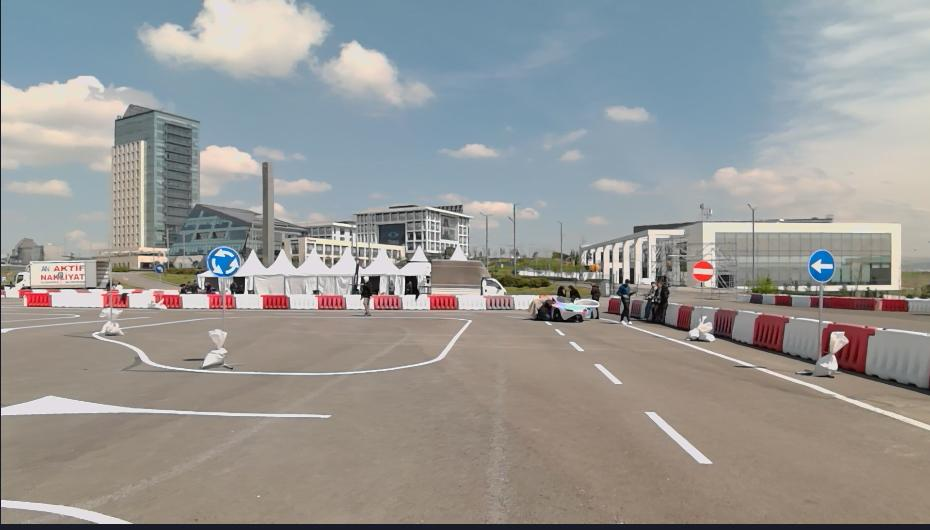nesne: (131, 308, 929, 525), (132, 306, 745, 524), (541, 314, 929, 521), (628, 323, 928, 429), (657, 304, 927, 390), (88, 317, 473, 374), (0, 393, 332, 419), (103, 292, 361, 309), (864, 325, 928, 390), (0, 492, 131, 522), (645, 411, 711, 461), (818, 320, 875, 375), (372, 293, 532, 311), (430, 258, 507, 294), (16, 260, 108, 288), (822, 294, 929, 314), (527, 293, 597, 321), (781, 318, 825, 358), (811, 331, 846, 377), (752, 311, 786, 349), (201, 328, 230, 369), (207, 244, 241, 276), (737, 293, 818, 306), (643, 280, 667, 323), (806, 249, 835, 284), (617, 275, 635, 325), (730, 308, 755, 344), (685, 315, 717, 340), (823, 294, 872, 309), (688, 306, 717, 331), (52, 292, 103, 306), (714, 307, 736, 339), (595, 361, 623, 384), (690, 260, 713, 283), (373, 293, 403, 309), (661, 304, 681, 328), (676, 305, 694, 331), (234, 293, 265, 308), (361, 274, 372, 316), (318, 294, 346, 310), (401, 294, 430, 309), (487, 295, 514, 311), (209, 292, 234, 309), (181, 292, 208, 307), (102, 293, 130, 307), (290, 295, 318, 309), (101, 319, 124, 336), (22, 292, 51, 305), (429, 295, 458, 308), (458, 295, 485, 308), (908, 297, 928, 314), (129, 294, 157, 306), (265, 295, 289, 309), (513, 294, 533, 310), (883, 299, 909, 310), (346, 295, 365, 309), (789, 295, 811, 306), (606, 298, 620, 315), (164, 293, 182, 306), (589, 282, 601, 300), (554, 281, 568, 296), (871, 295, 885, 310), (567, 282, 580, 298), (773, 295, 791, 305), (569, 339, 584, 351), (735, 292, 752, 301), (760, 295, 776, 304), (155, 297, 168, 308), (809, 295, 820, 307), (154, 263, 165, 274), (750, 293, 761, 303), (553, 327, 564, 336)
